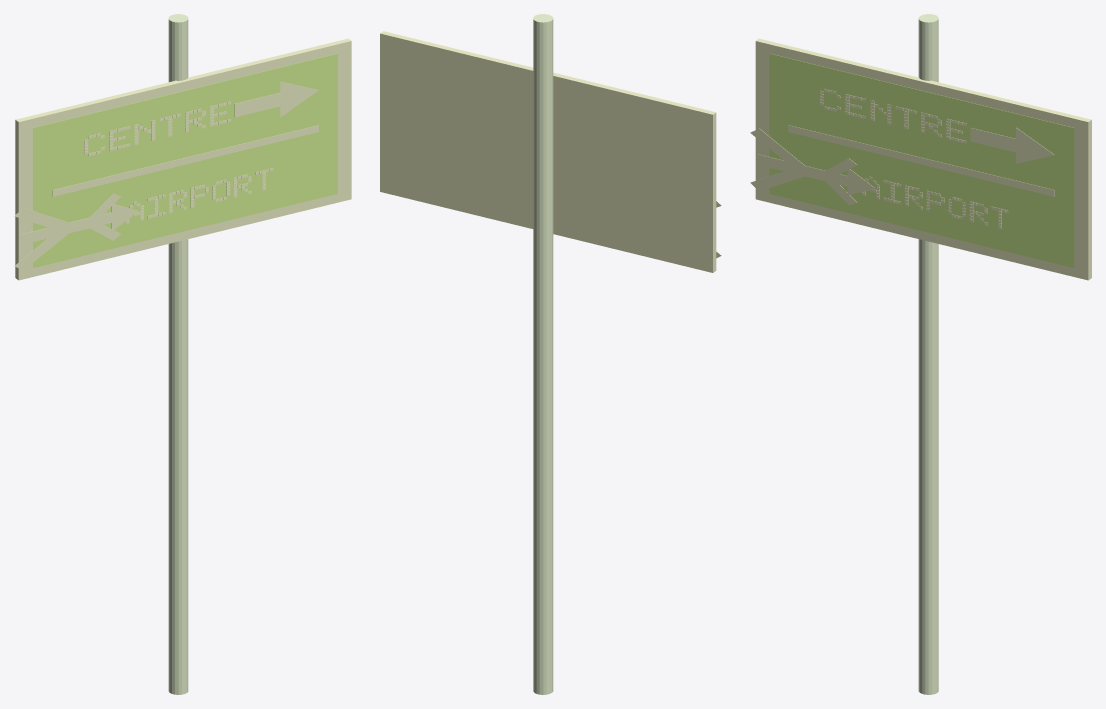
The model's file is sign_destination_stack_airport_centre_right.glb.
3 renders of one model, left to right at view 1: azimuth 30°, elevation 25°; view 2: azimuth 150°, elevation 25°; view 3: azimuth 330°, elevation 25°, orthographic.
Visible parts, largest first — view 1: layer_1_00, plate_base_00, pole, layer_2_00, layer_2_01, layer_2_212, layer_2_211, layer_2_04, layer_2_03; view 2: plate_base_00, pole; view 3: layer_1_00, plate_base_00, pole, layer_2_00, layer_2_01, layer_2_212, layer_2_211, layer_2_03, layer_2_04.
Boxes of the visible parts, x1,y1,x2,y2 form: layer_1_00: (33,53,337,267); plate_base_00: (15,38,351,280); pole: (168,14,188,694); layer_2_00: (52,125,318,196); layer_2_01: (21,209,125,244); layer_2_212: (280,81,318,117); layer_2_211: (234,93,280,117); layer_2_04: (14,227,70,270); layer_2_03: (14,207,68,231); plate_base_00: (380,31,716,272); pole: (533,14,553,694); layer_1_00: (769,53,1074,267); plate_base_00: (755,38,1091,280); pole: (918,14,938,694); layer_2_00: (788,125,1054,196); layer_2_01: (757,154,861,189); layer_2_212: (1016,127,1054,163); layer_2_211: (970,128,1015,152); layer_2_03: (750,128,806,170); layer_2_04: (750,171,807,191).
Size of the model in its own units: 1.16 by 2.2 by 0.0725.
